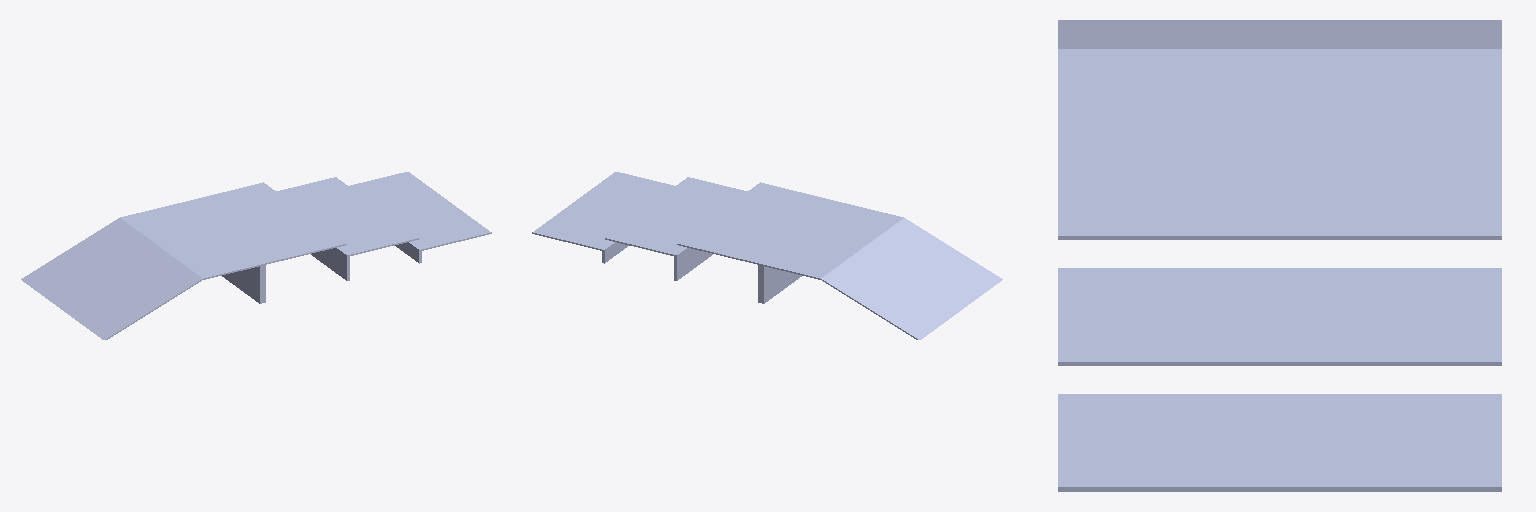
The robot description file, URDF, robot "map20lendoc":
<?xml version="1.0" encoding="utf-8"?>
<!-- This URDF was automatically created by SolidWorks to URDF Exporter! Originally created by [author] ([email redacted]) 
     Commit Version: 1.6.0-1-g15f4949  Build Version: 1.6.7594.29634
     For more information, please see http://wiki.ros.org/sw_urdf_exporter -->
<robot
  name="map20lendoc">
  <link
    name="base_link">
    <inertial>
      <origin
        xyz="0.162724856478983 -4.44089209850063E-16 -0.105723710894293"
        rpy="0 0 0" />
      <mass
        value="41.50417784345" />
      <inertia
        ixx="3.66983170241136"
        ixy="-3.90022003221305E-15"
        ixz="-0.429731665578607"
        iyy="4.88311714643189"
        iyz="-1.02978969229504E-15"
        izz="8.13064841792887" />
    </inertial>
    <visual>
      <origin
        xyz="0 0 0"
        rpy="0 0 0" />
      <geometry>
        <mesh
          filename="package://map20lendoc/meshes/base_link.STL" />
      </geometry>
      <material
        name="">
        <color
          rgba="0.792156862745098 0.819607843137255 0.933333333333333 1" />
      </material>
    </visual>
    <collision>
      <origin
        xyz="0 0 0"
        rpy="0 0 0" />
      <geometry>
        <mesh
          filename="package://map20lendoc/meshes/base_link.STL" />
      </geometry>
    </collision>
  </link>
</robot>

--- What the picture shows (computed from the rendered views, not written in the file) ---
The picture shows the robot from 3 angles, left to right: view 1: azimuth 30°, elevation 25°; view 2: azimuth 150°, elevation 25°; view 3: azimuth 270°, elevation 25°; orthographic projection.
Model map20lendoc with 1 links and 0 joints (none), rooted at base_link, posed every joint at zero.
Visible links, largest first — view 1: base_link; view 2: base_link; view 3: base_link.
Boxes of the visible links, <box> form: base_link: <box>21,172,491,339</box>; base_link: <box>532,172,1002,339</box>; base_link: <box>1058,20,1501,491</box>.
Bounding box of the posed robot: 2.68 × 1 × 0.26 m (x, y, z).
Meshes: 1 distinct files referenced, 1 mesh visuals loaded (1 binary STL).